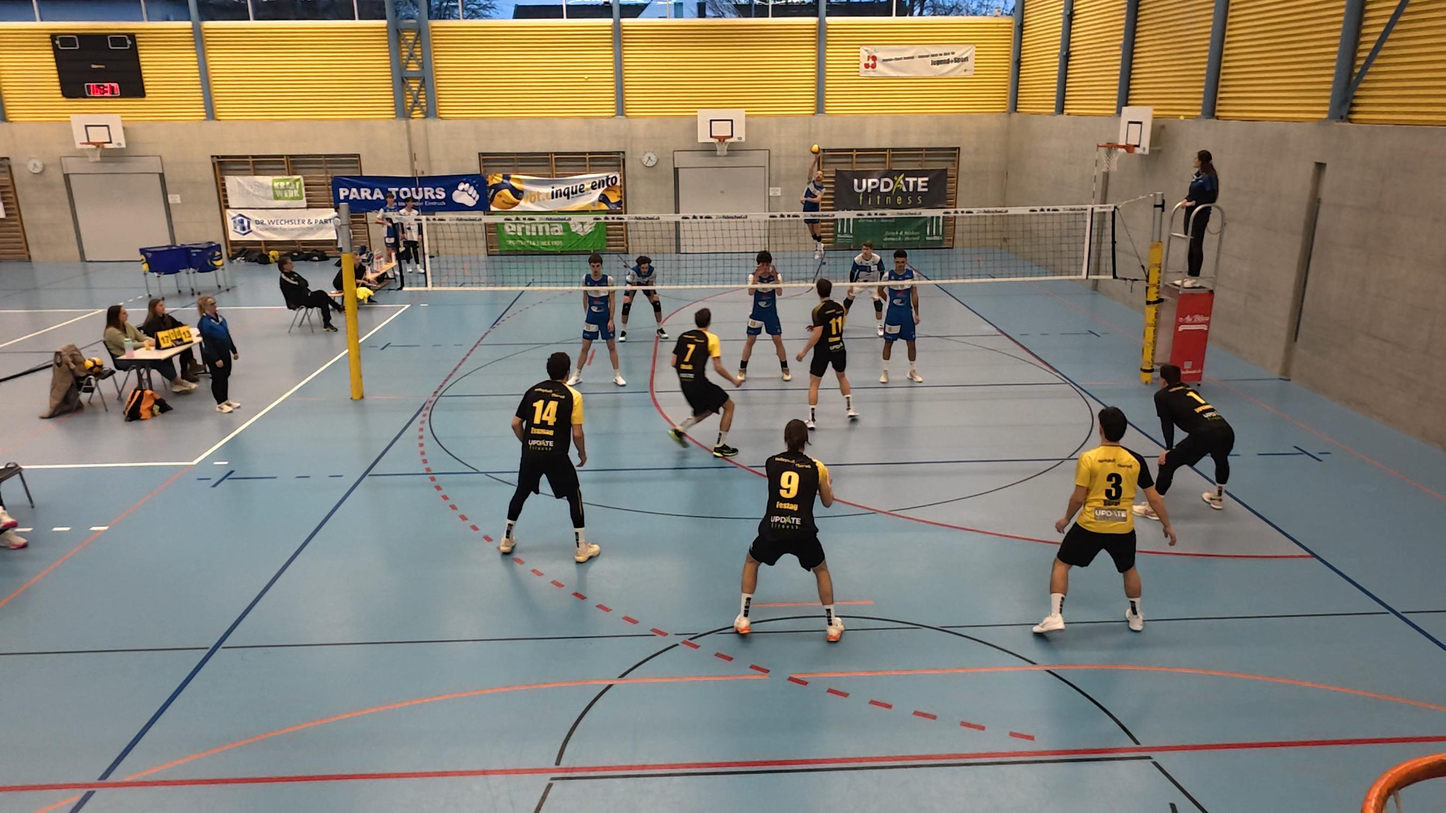battuta: (794, 140, 838, 261)
